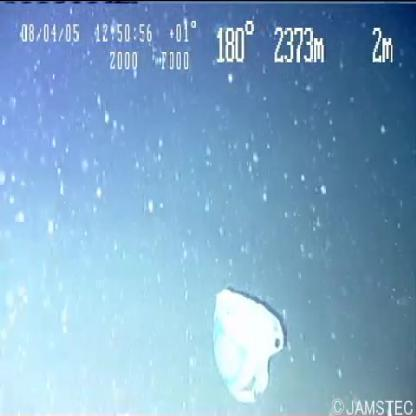Rác: (212, 290, 288, 397)
